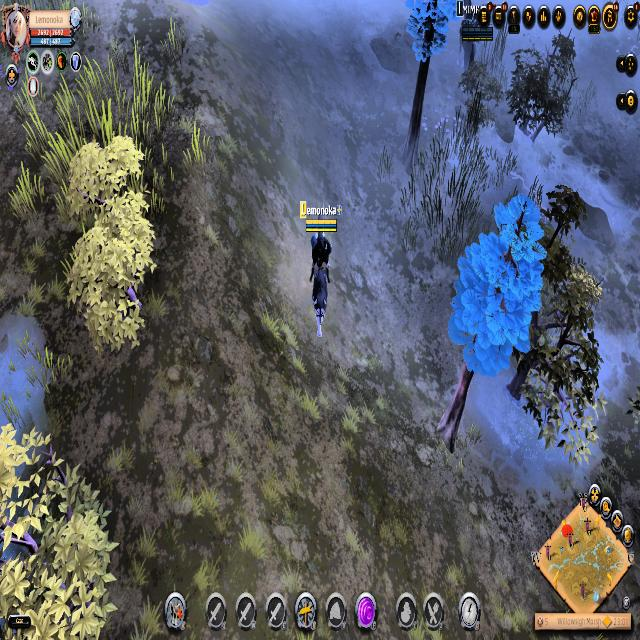wood tier 4: (449, 192, 548, 384)
